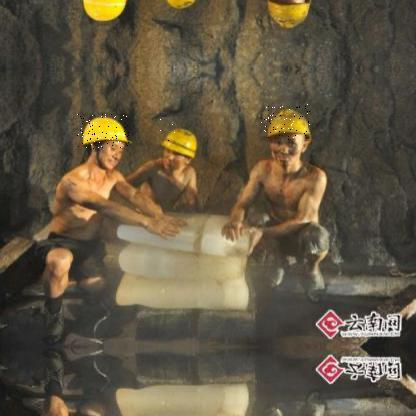safetyhelmet: (159, 118, 202, 164), (261, 104, 312, 142), (77, 114, 130, 150)
